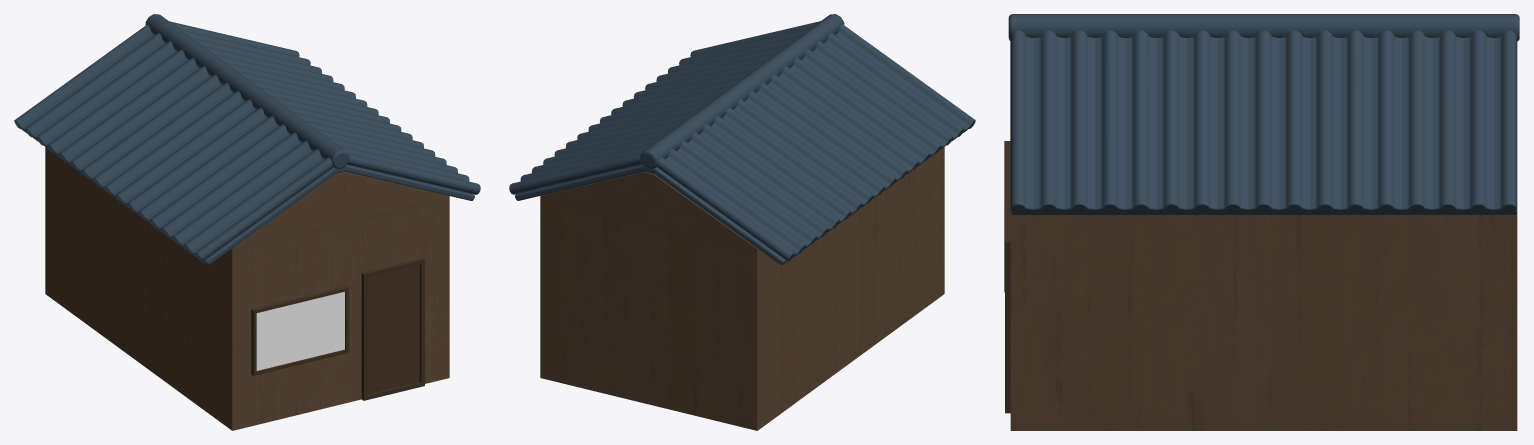
The model's file is House_C.obj.
3 renders of one model, left to right at view 1: azimuth 30°, elevation 25°; view 2: azimuth 150°, elevation 25°; view 3: azimuth 270°, elevation 25°, orthographic. The views are drawn at different scales.
Visible parts, largest first — view 1: House_C_OutDoor3SG1, House_C_Roof_B2SG1, House_C_Roof_B1SG1, House_C_Glass4SG1, House_C_Roof2SG1, House_C_Glass10SG1, House_C_TopRoof1SG1, House_C_Frame3SG1, House_C_Under_B1SG1, House_C_FrameWindow4SG1; view 2: House_C_OutDoor3SG1, House_C_Roof_B2SG1, House_C_Roof_B1SG1, House_C_Roof2SG1, House_C_TopRoof1SG1, House_C_Under_B1SG1; view 3: House_C_OutDoor3SG1, House_C_Roof_B1SG1, House_C_TopRoof1SG1, House_C_Under_B1SG1, House_C_Frame3SG1, House_C_FrameWindow4SG1.
Boxes of the visible parts, x1,y1,x2,y2 form: House_C_OutDoor3SG1: (45,147,449,430); House_C_Roof_B2SG1: (14,24,333,261); House_C_Roof_B1SG1: (169,21,480,194); House_C_Glass4SG1: (367,265,419,394); House_C_Roof2SG1: (232,171,448,248); House_C_Glass10SG1: (256,291,344,370); House_C_TopRoof1SG1: (145,14,349,168); House_C_Frame3SG1: (361,258,424,400); House_C_Under_B1SG1: (203,165,474,265); House_C_FrameWindow4SG1: (251,286,348,375); House_C_OutDoor3SG1: (540,147,944,430); House_C_Roof_B2SG1: (656,24,975,261); House_C_Roof_B1SG1: (509,21,820,194); House_C_Roof2SG1: (540,171,757,248); House_C_TopRoof1SG1: (640,14,844,169); House_C_Under_B1SG1: (515,164,786,265); House_C_OutDoor3SG1: (1010,213,1517,430); House_C_Roof_B1SG1: (1010,30,1517,213); House_C_TopRoof1SG1: (1008,14,1519,41); House_C_Under_B1SG1: (1010,208,1517,214); House_C_Frame3SG1: (1005,201,1010,413); House_C_FrameWindow4SG1: (1004,141,1010,292).
Size of the model in its own units: 30.87 by 26.54 by 36.03.
10 materials, 10 textured.
